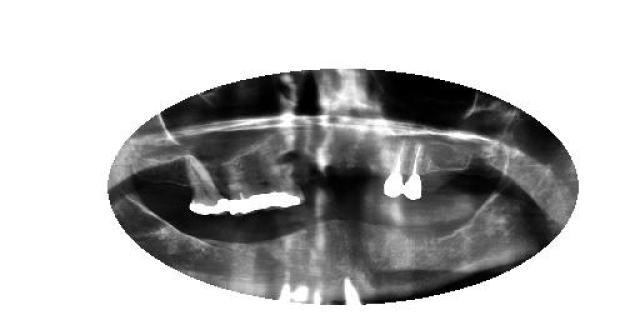Fillings: (185, 154, 227, 214), (229, 161, 255, 215), (280, 159, 305, 209), (255, 162, 280, 208)
Implant: (384, 142, 406, 198), (405, 144, 424, 201)
